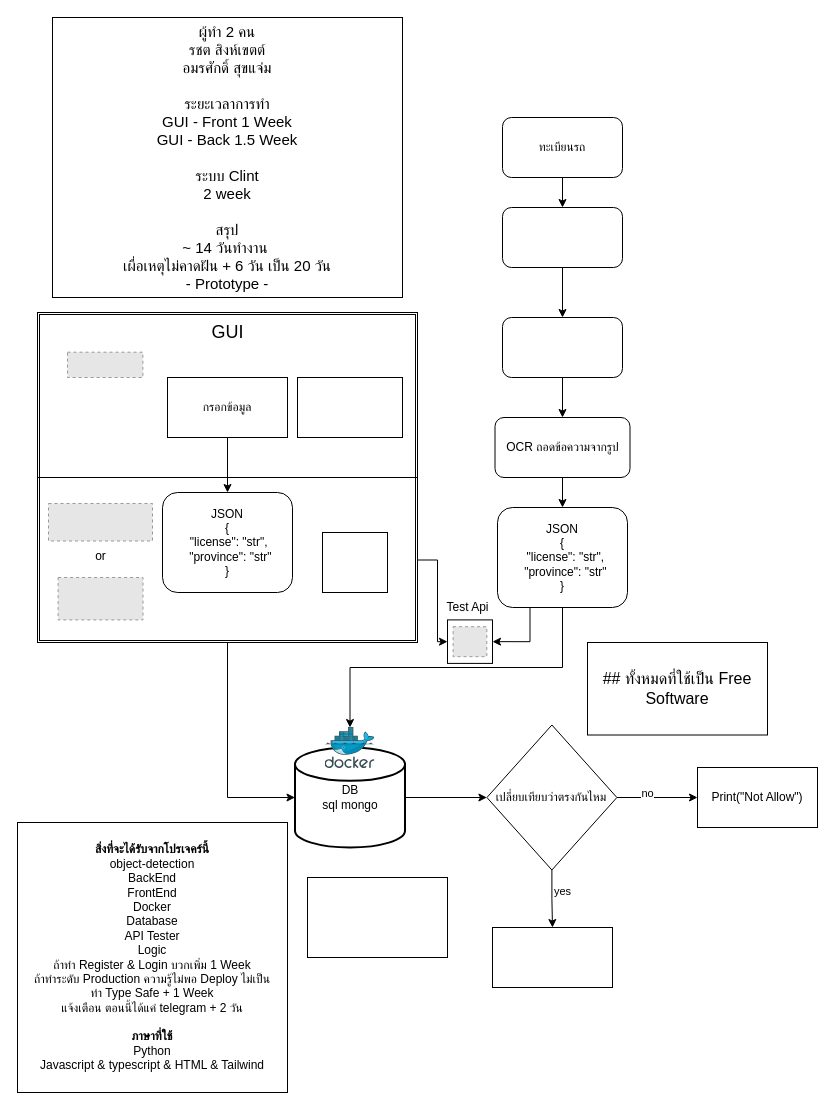
Image size: 835x1110. Some labels were removed from this diagram. Grey dashed boxes stand in for pictures. Here are the shapes that lost their labels. From the top down, the centre of each, then its label:
point (562, 237): กล้อง
point (562, 347): Yolo object-detection
point (349, 407): react - simple css
point (355, 562): FastAPI expass หรืออะไรก็ได้
point (377, 917): อุปกรณ์ที่ใช้ กล้อง USB 720 x 720 pi 5 ? กลัวไม่พอ ถ้าแจ้ง + Wifi
point (552, 957): Print("Pass")
